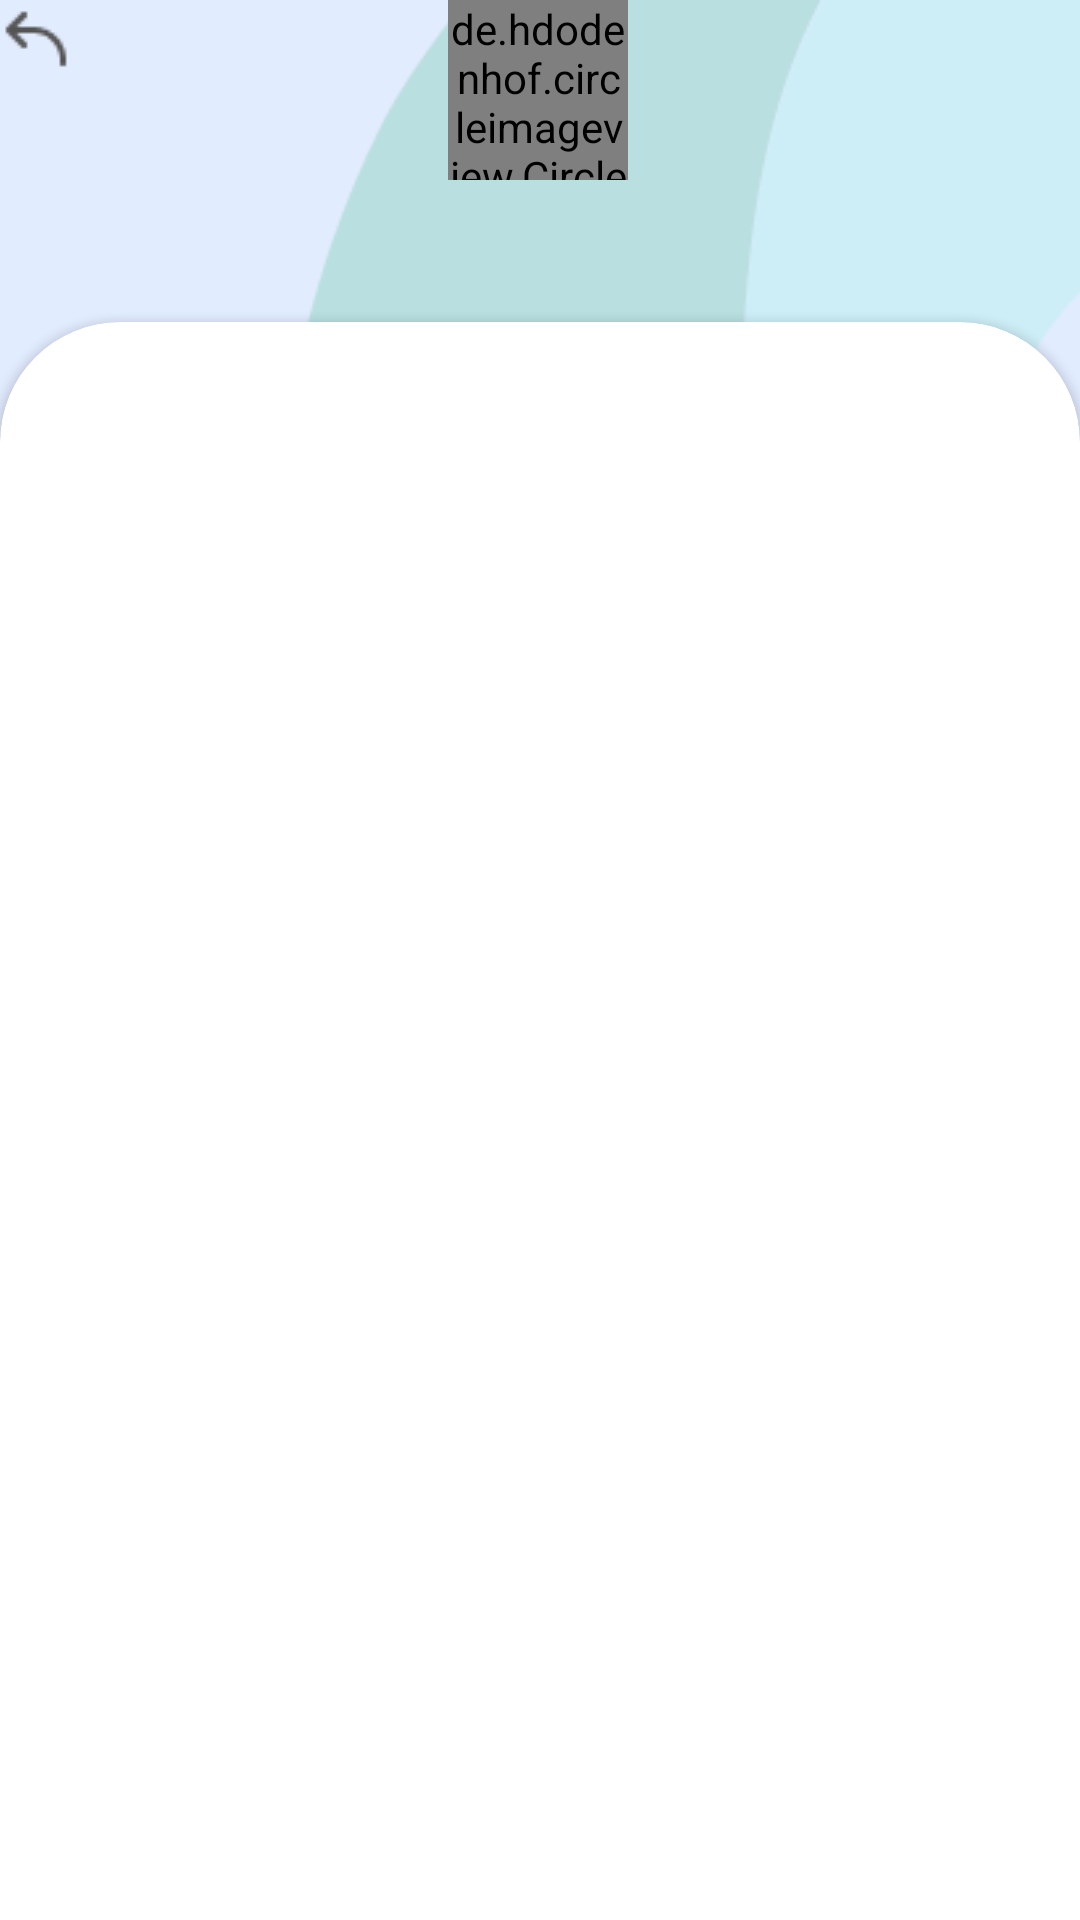

Icon bounding boxes for this 1080×1920 phone screenshot, format (x1, y1, x2, y2):
back: (5, 11, 67, 67)
